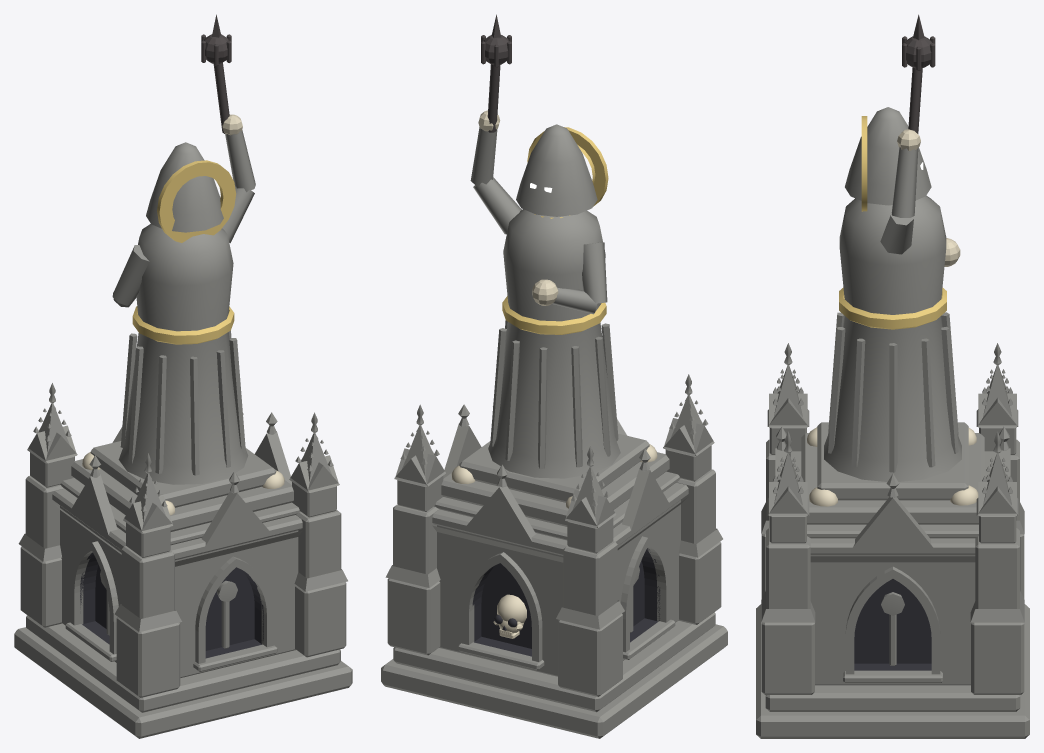
Rendered from tower_idol_2.glb.
3 views of the same model, side by side, from view 1: azimuth 30°, elevation 25°; view 2: azimuth 150°, elevation 25°; view 3: azimuth 270°, elevation 25° (orthographic). The views are drawn at different scales.
Parts seen in each view (by area): view 1: tower; view 2: tower; view 3: tower.
Part boxes in pixels (left/top/right/bottom): tower: left=14, top=14, right=352, bottom=738; tower: left=381, top=14, right=727, bottom=738; tower: left=756, top=14, right=1029, bottom=738.
Bounding box in the file's own units: 1.7 × 4.75 × 1.7.
